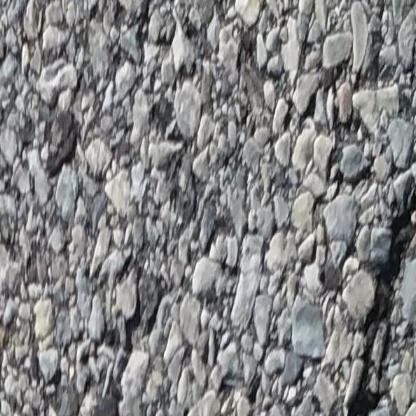Cracks: (327, 151, 416, 416)
